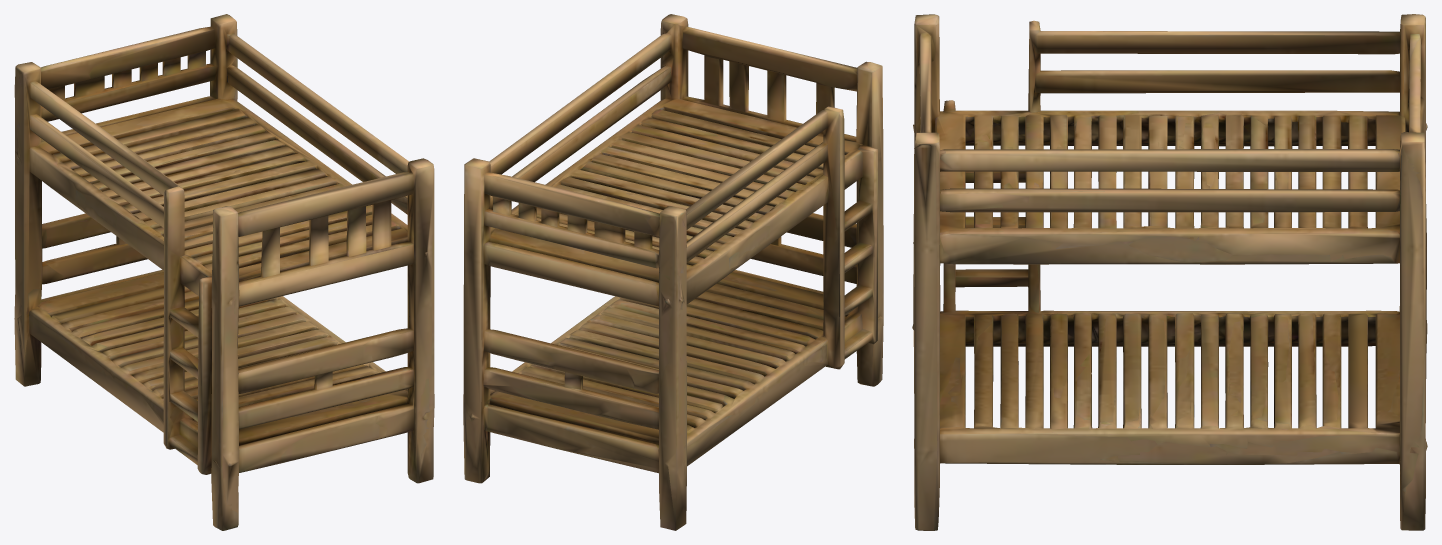
The model's file is bed-bunk-lite.glb.
3 views of the same model, side by side, from view 1: azimuth 30°, elevation 25°; view 2: azimuth 150°, elevation 25°; view 3: azimuth 270°, elevation 25° (orthographic). The views are drawn at different scales.
Visible parts, largest first — view 1: node_0; view 2: node_0; view 3: node_0.
Part boxes in pixels (left/top/right/bottom): node_0: left=14, top=14, right=434, bottom=530; node_0: left=463, top=14, right=883, bottom=530; node_0: left=912, top=14, right=1427, bottom=530.
Size of the model in its own units: 0.5197 by 0.7054 by 0.843.
Materials: 1 (1 with a texture image).
